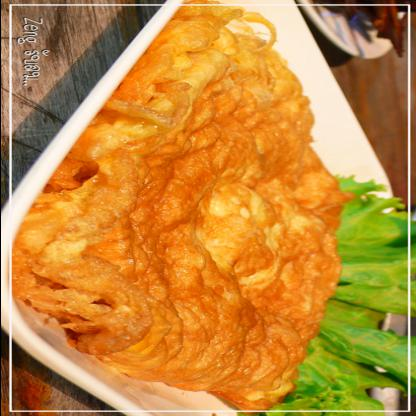Omelette: (17, 7, 366, 409)
